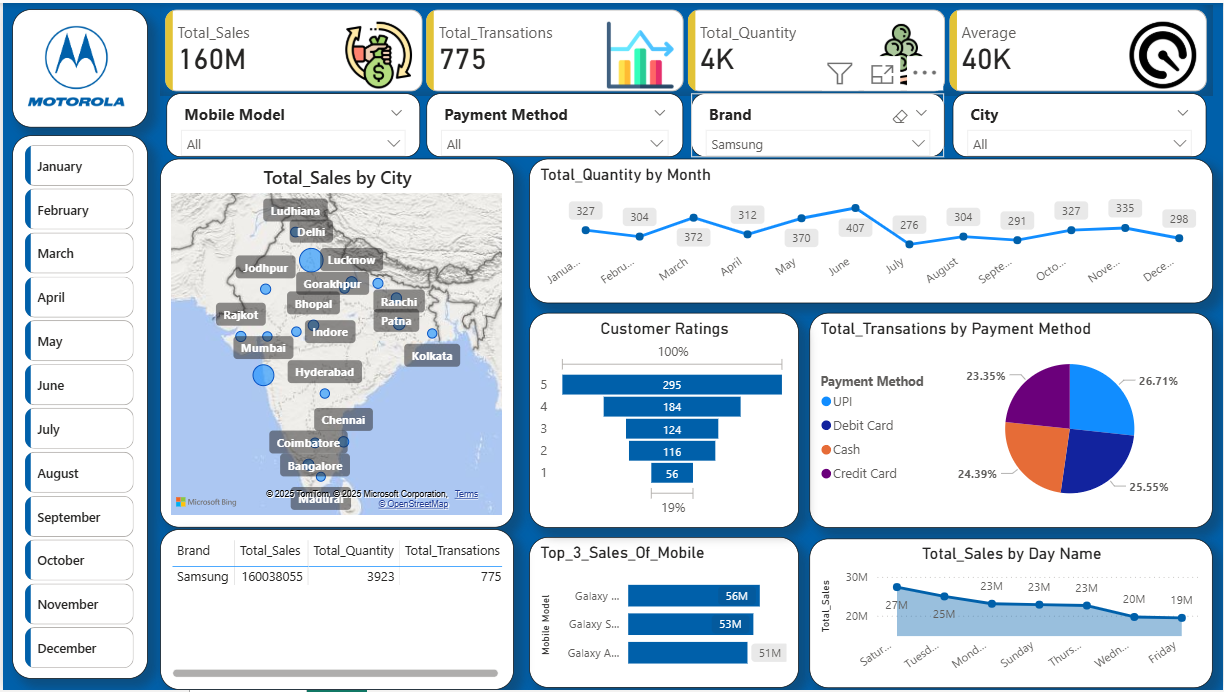

The page's visual inventory and layout, read from the dashboard file:
{"tool":"powerbi","page":{"name":"Page 1","canvas":[1280,720],"ordinal":0},"visuals":[{"type":"shape","box":[9.8,6.5,142,124],"z":0},{"type":"image","box":[19.6,0,114.3,132.2],"z":1000},{"type":"shape","box":[9.8,138.7,142,569.7],"z":2000},{"type":"advancedSlicerVisual","fields":{"Values":["Sheet1.Date.Variation.Date Hierarchy.Month"]},"box":[18,143.6,124.1,564.8],"z":3000},{"type":"cardVisual","fields":{"Data":["Sales_data.Total_Sales","Sales_data.Total_Transations","Sales_data.Total_Quantity","Sales_data.Average"]},"box":[164.9,1.6,1103.4,96.3],"z":4000},{"type":"map","fields":{"Category":["Sales_data.City"],"Size":["Sales_data.Total_Sales"]},"box":[164.9,163.2,370.5,386.8],"z":5000},{"type":"lineChart","fields":{"Category":["Sales_data.Date.Variation.Date Hierarchy.Month","Sales_data.Date.Variation.Date Hierarchy.Day"],"Y":["Sales_data.Total_Quantity"]},"box":[551.7,163.2,716.6,151.8],"z":6000},{"type":"clusteredBarChart","title":"Top_3_Sales_Of_Mobile","fields":{"Category":["Sales_data.Mobile Model"],"Y":["Sales_data.Total_Sales"]},"box":[551.7,559.9,282.4,158.3],"z":7000},{"type":"pieChart","fields":{"Y":["Sales_data.Total_Transations"],"Category":["Sales_data.Payment Method"]},"box":[845.5,324.8,422.8,225.3],"z":8000},{"type":"funnel","title":"Customer Ratings ","fields":{"Category":["Sales_data.Customer Ratings"],"Y":["CountNonNull(Sales_data.Customer Ratings)"]},"box":[551.7,324.8,282.4,225.3],"z":9000},{"type":"areaChart","fields":{"Category":["Sales_data.Day Name"],"Y":["Sales_data.Total_Sales"]},"box":[845.5,561.5,422.8,156.7],"z":10000},{"type":"tableEx","fields":{"Values":["Sales_data.Brand","Sales_data.Total_Sales","Sales_data.Total_Quantity","Sales_data.Total_Transations"]},"box":[164.9,551.7,370.5,168.1],"z":11000},{"type":"slicer","fields":{"Values":["Sales_data.Mobile Model"]},"box":[171.4,94.7,266.1,66.9],"z":12000},{"type":"slicer","fields":{"Values":["Sales_data.Payment Method"]},"box":[444,94.7,269.3,66.9],"z":13000},{"type":"slicer","fields":{"Values":["Sales_data.Brand"]},"box":[721.5,94.7,266.1,66.9],"z":14000},{"type":"slicer","fields":{"Values":["Sales_data.City"]},"box":[995.7,94.7,266.1,66.9],"z":15000}]}

Visuals, with their boxes in screenshot pixels (x1, y1, x2, y2), scaled from the page's 1280x720 canvas onto the 1224x692 screenshot:
shape: (9, 6, 145, 125)
image: (19, 0, 128, 127)
shape: (9, 133, 145, 681)
advancedSlicerVisual - Sheet1.Date.Variation.Date Hierarchy.Month: (17, 138, 136, 681)
cardVisual - Sales_data.Total_Sales x Sales_data.Total_Transations: (158, 2, 1213, 94)
map - Sales_data.City x Sales_data.Total_Sales: (158, 157, 512, 529)
lineChart - Sales_data.Date.Variation.Date Hierarchy.Month x Sales_data.Date.Variation.Date Hierarchy.Day: (528, 157, 1213, 303)
"Top_3_Sales_Of_Mobile" clusteredBarChart: (528, 538, 798, 690)
pieChart - Sales_data.Total_Transations x Sales_data.Payment Method: (809, 312, 1213, 529)
"Customer Ratings " funnel: (528, 312, 798, 529)
areaChart - Sales_data.Day Name x Sales_data.Total_Sales: (809, 540, 1213, 690)
tableEx - Sales_data.Brand x Sales_data.Total_Sales: (158, 530, 512, 691)
slicer - Sales_data.Mobile Model: (164, 91, 418, 155)
slicer - Sales_data.Payment Method: (425, 91, 682, 155)
slicer - Sales_data.Brand: (690, 91, 944, 155)
slicer - Sales_data.City: (952, 91, 1207, 155)
